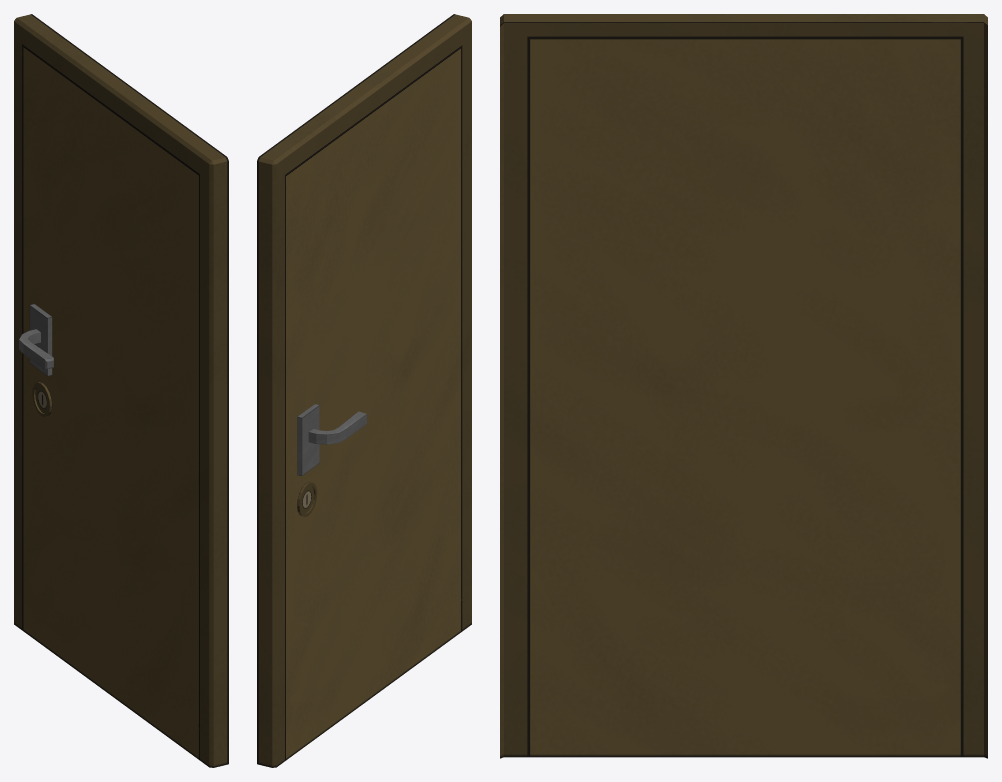
Rendered from door2.fbx.
3 views of the same model, side by side, from view 1: azimuth 30°, elevation 25°; view 2: azimuth 150°, elevation 25°; view 3: azimuth 270°, elevation 25° (orthographic). The views are drawn at different scales.
Parts seen in each view (by area): view 1: polySurface14; view 2: polySurface14; view 3: polySurface14.
Part boxes in pixels (left/top/right/bottom): polySurface14: left=14, top=14, right=228, bottom=767; polySurface14: left=257, top=14, right=471, bottom=767; polySurface14: left=500, top=14, right=987, bottom=758.
Size of the model in its own units: 0.1821 by 2.2 by 1.31.
